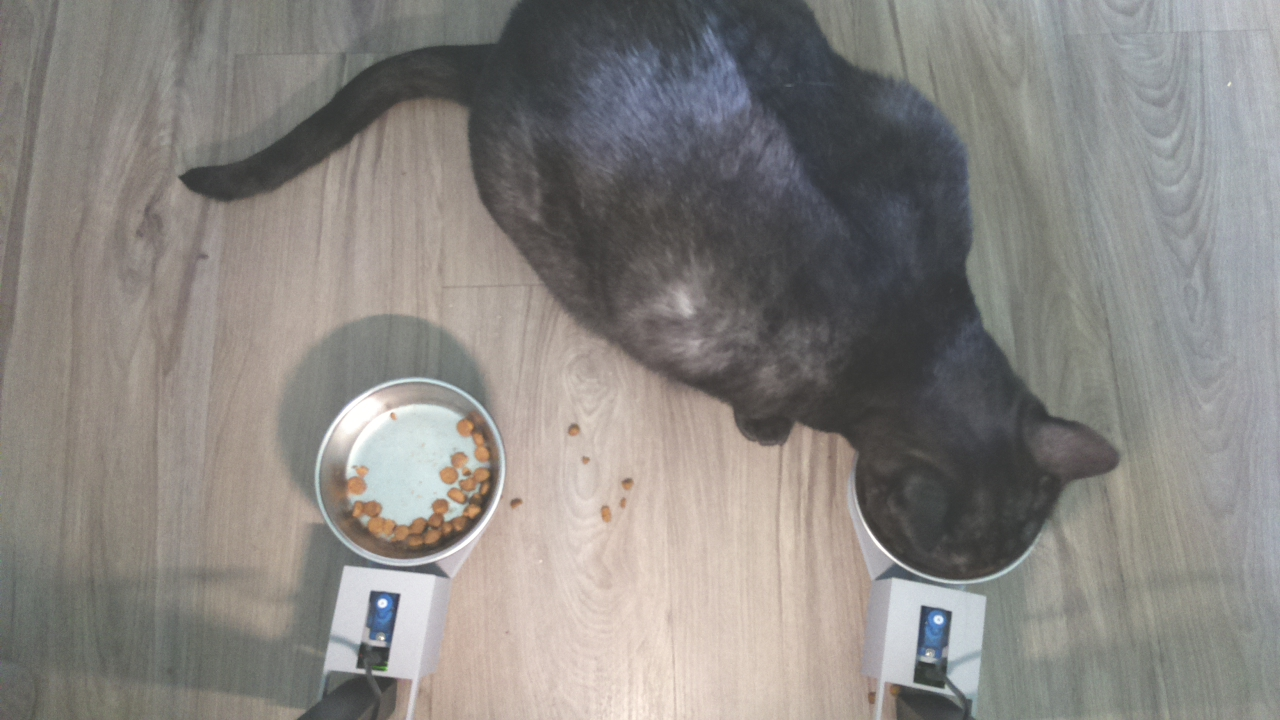open_bowl: (309, 373, 512, 575)
saki_eating: (851, 303, 1130, 594)
